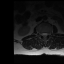CCS_normal: (43, 30, 45, 39)
LFS_normal: (47, 30, 49, 37)
LLS_normal: (45, 30, 47, 38)
RFS_normal: (39, 30, 41, 37)
RLS_normal: (41, 30, 43, 38)
